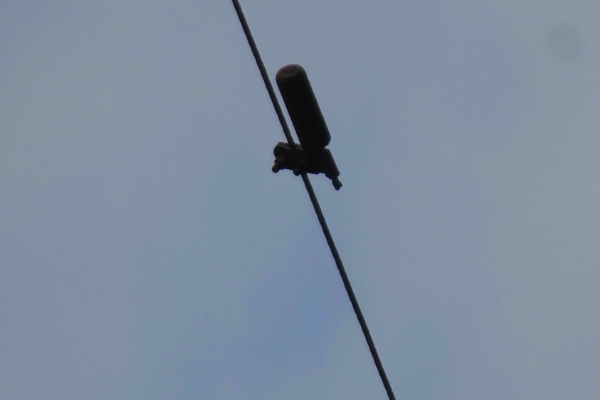damper_defect: (262, 61, 348, 197)
